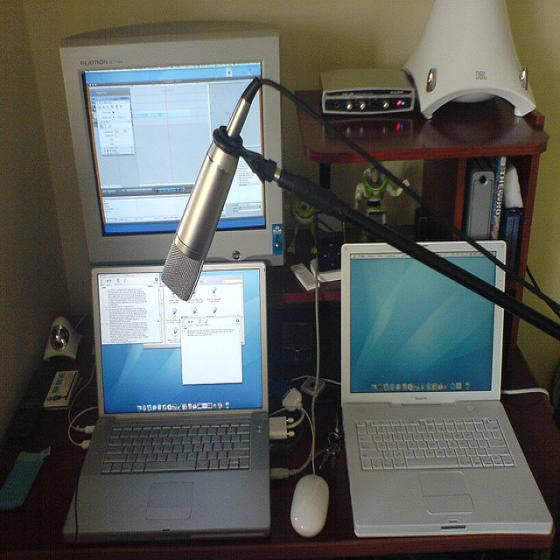laptop: (338, 241, 551, 538), (58, 263, 271, 542)
mouse: (290, 474, 330, 538)
